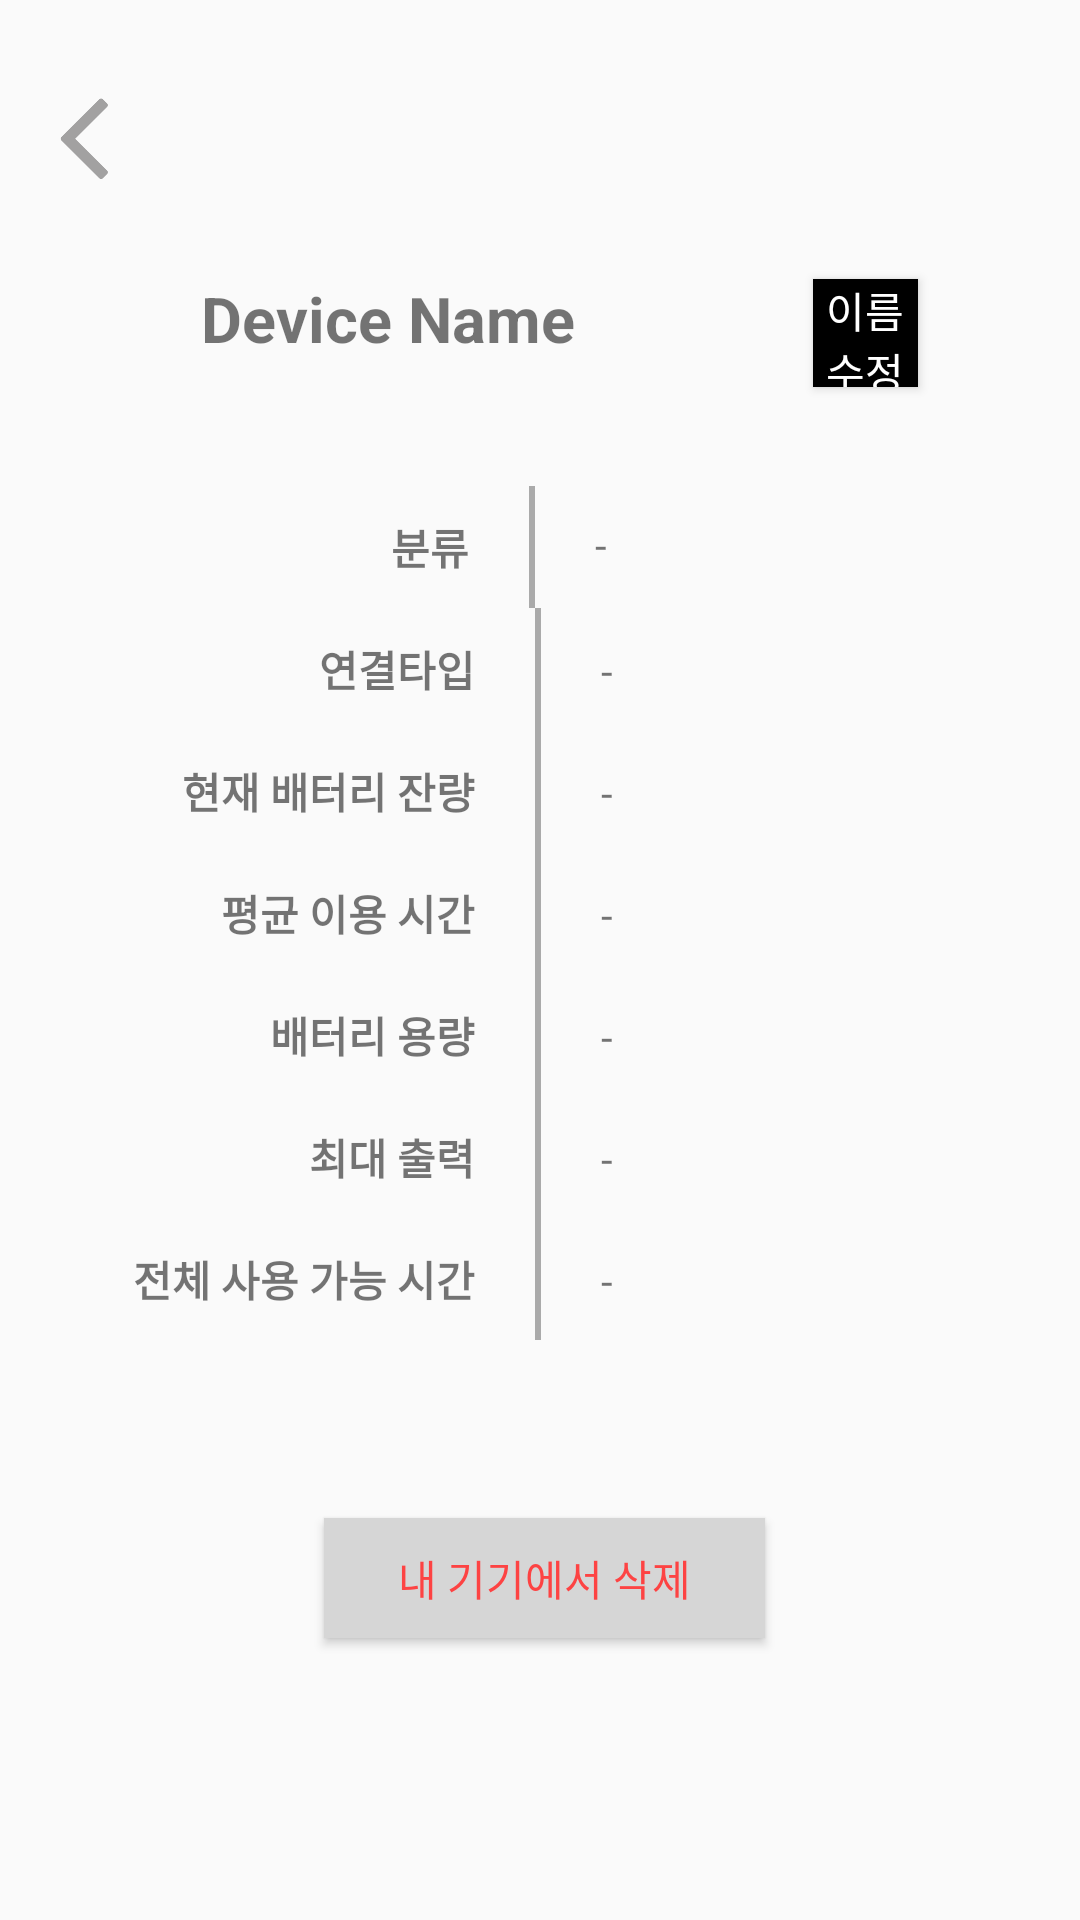

Icons on this 1080w x 1920h Android screen, each with the point to tap as point (x, y):
이전으로 가기: point (84, 138)
